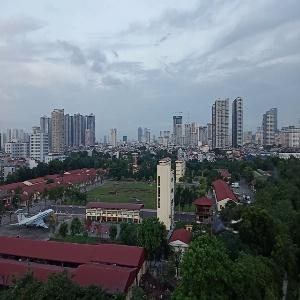drone: (198, 199, 245, 246)
